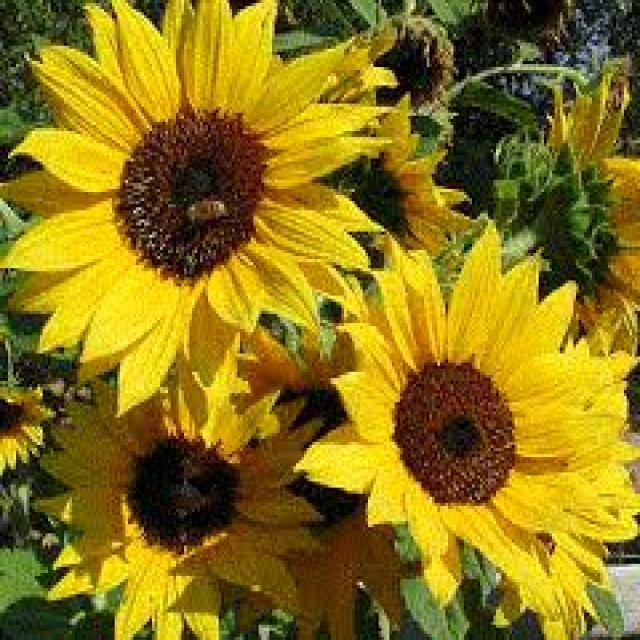sunflower: (6, 0, 390, 422), (293, 215, 640, 640), (30, 337, 334, 640), (261, 375, 431, 640), (305, 53, 477, 297), (509, 67, 640, 369), (525, 54, 640, 360), (342, 6, 466, 101), (1, 379, 48, 478)
